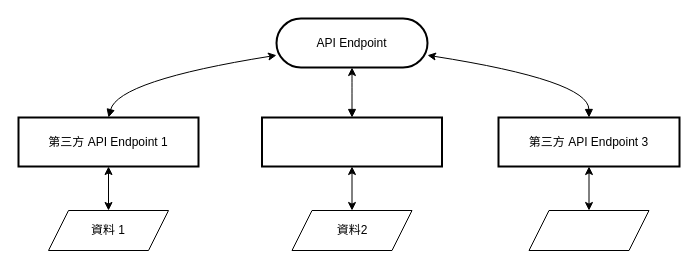
The diagram is 697 pixels wide and 268 high, and some of its shapes have lost their labels. The shapes that lost their labels are listed below. From the top down, each one's centre as x and y in pixels, then its label:
pixel 351 141: 第三方 API Endpoint 2
pixel 588 230: 資料 3
